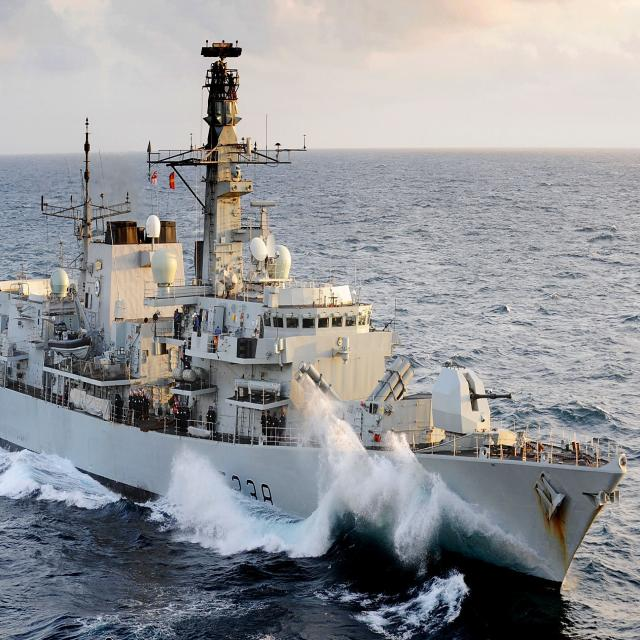Fragata: (1, 20, 380, 632)
